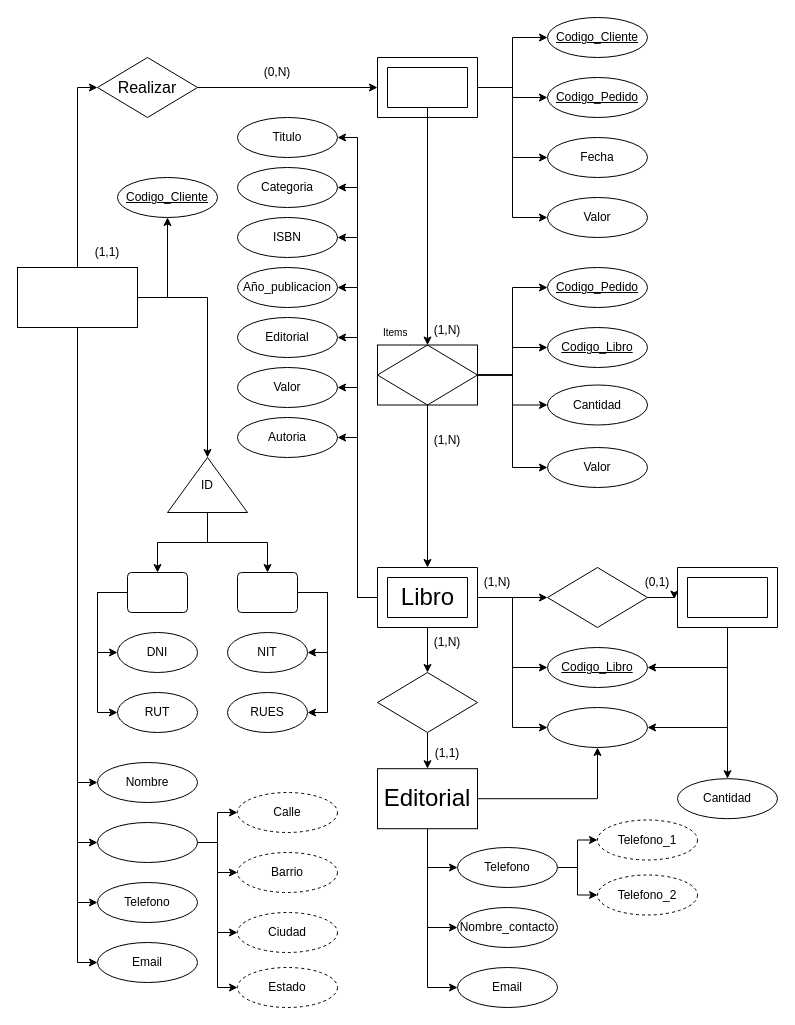
Image size: 795x1025. Some labels were removed from this diagram. The box of each missing label's shape, as (x1, y1, x2, y2) in pixels:
Cliente: (16, 266, 138, 328)
Codigo_Editorial: (546, 706, 648, 748)
Contiene: (376, 344, 478, 405)
Dirección: (96, 822, 198, 862)
Existe: (546, 566, 648, 628)
Inventario: (676, 566, 778, 628)
Pedido: (376, 56, 478, 118)
Pertenece: (376, 672, 478, 732)
PJ: (236, 572, 298, 612)
PN: (126, 572, 188, 612)
